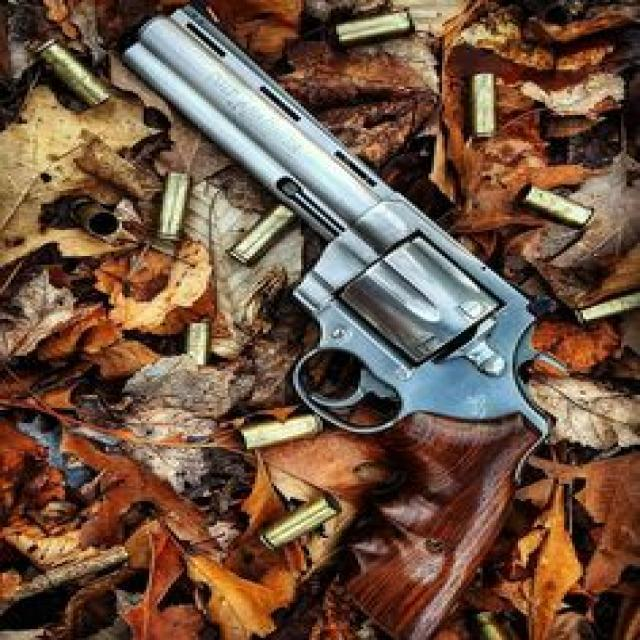revolver: (85, 2, 588, 639)
